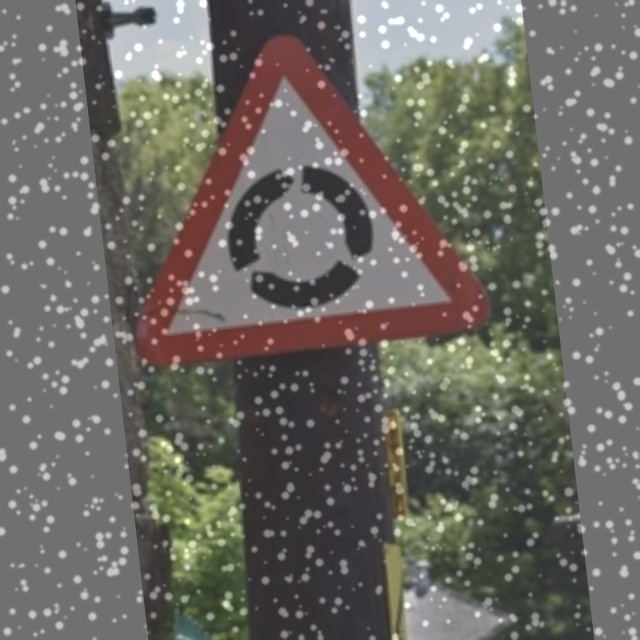Round_About: (114, 9, 485, 363)
